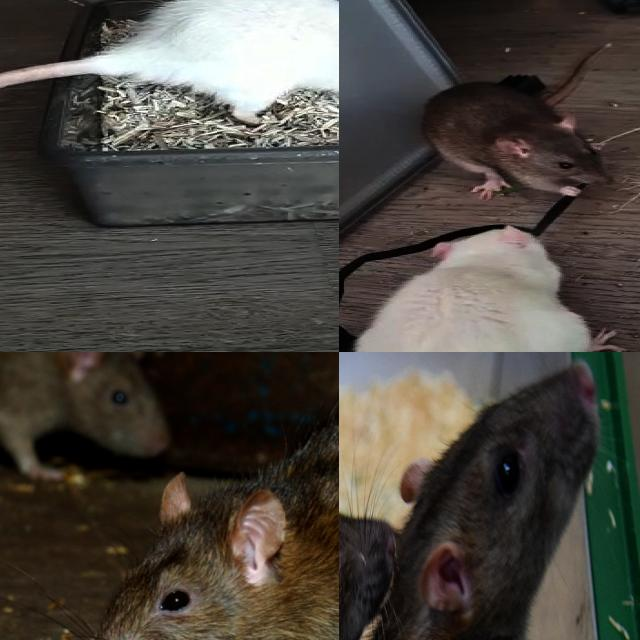rat: (394, 354, 636, 640), (76, 467, 339, 640), (357, 223, 623, 352), (108, 0, 339, 130), (421, 80, 618, 200), (0, 352, 172, 482)
